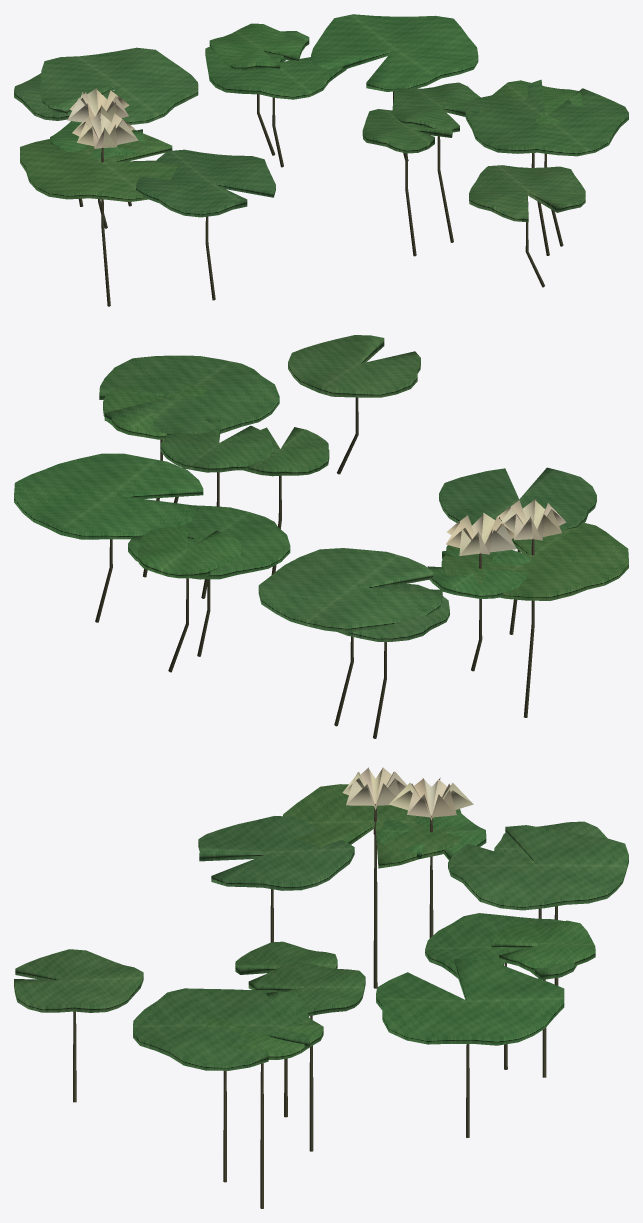
File: PZ_LilyPads_Patch_A.glb
3 renders of one model, top to bottom at view 1: azimuth 30°, elevation 25°; view 2: azimuth 150°, elevation 25°; view 3: azimuth 270°, elevation 25°, orthographic. The views are drawn at different scales.
Parts seen in each view (by area): view 1: LilyPad_Individual_NotchedDiscs_Batched, WaterLily_Blossoms_IndividualPetals, LilyPad_Submerged_CurvedPetioles; view 2: LilyPad_Individual_NotchedDiscs_Batched, WaterLily_Blossoms_IndividualPetals, LilyPad_Submerged_CurvedPetioles; view 3: LilyPad_Individual_NotchedDiscs_Batched, LilyPad_Submerged_CurvedPetioles, WaterLily_Blossoms_IndividualPetals.
Part boxes in pixels (left/top/right/bottom): LilyPad_Individual_NotchedDiscs_Batched: left=14, top=14, right=628, bottom=222; WaterLily_Blossoms_IndividualPetals: left=67, top=88, right=138, bottom=148; LilyPad_Submerged_CurvedPetioles: left=78, top=91, right=563, bottom=306; LilyPad_Individual_NotchedDiscs_Batched: left=14, top=335, right=628, bottom=641; WaterLily_Blossoms_IndividualPetals: left=446, top=498, right=566, bottom=555; LilyPad_Submerged_CurvedPetioles: left=95, top=397, right=534, bottom=738; LilyPad_Individual_NotchedDiscs_Batched: left=14, top=784, right=628, bottom=1070; LilyPad_Submerged_CurvedPetioles: left=73, top=804, right=558, bottom=1208; WaterLily_Blossoms_IndividualPetals: left=342, top=767, right=473, bottom=820.
Bounding box in the file's own units: 2.34 × 0.8405 × 2.15.
3 materials, 3 textured.
